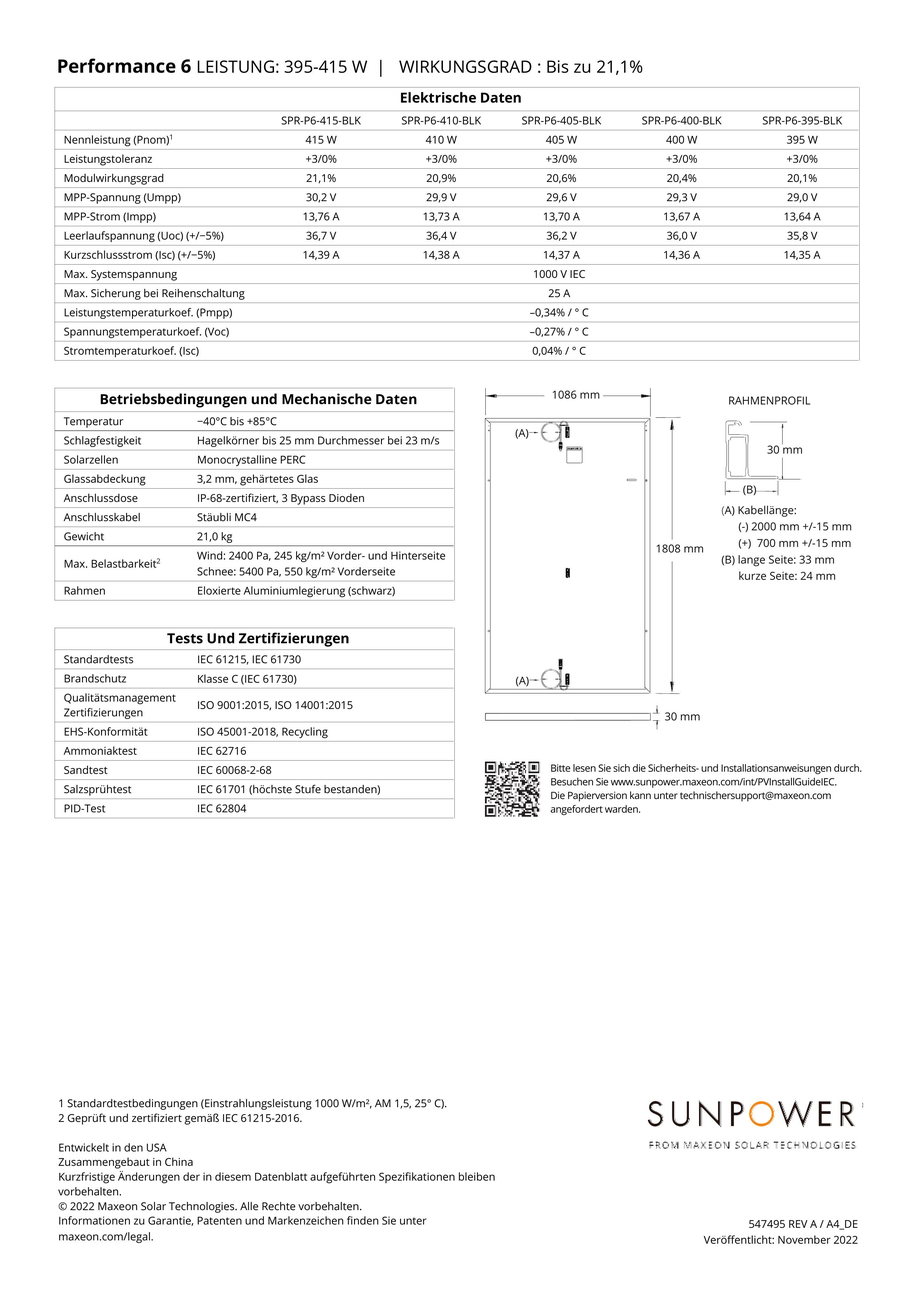table: (46, 79, 875, 370), (42, 380, 465, 608), (46, 621, 464, 826)
